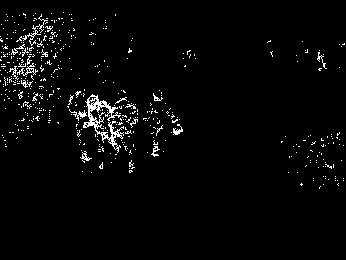person: (142, 87, 185, 160)
